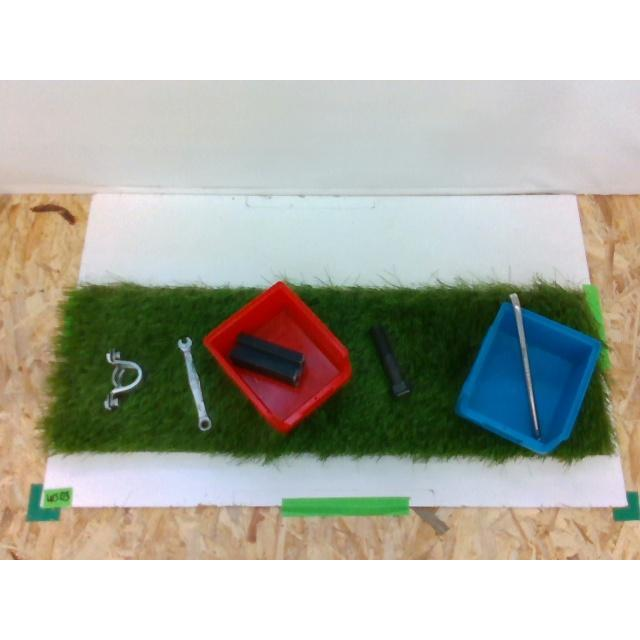AllenKey: (509, 293, 541, 439)
Housing: (104, 350, 142, 410)
M20_100: (370, 325, 410, 397)
S40_40_B: (228, 334, 304, 386)
Wrench: (178, 338, 210, 430)
container_box_blue: (456, 294, 600, 454)
container_box_red: (205, 282, 352, 431)
